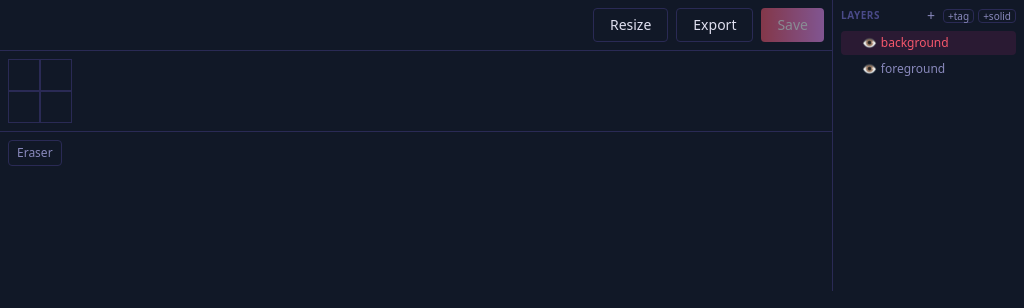
Test case: TileMapEditor › hovering a cell shows its row/column and world x/y in the toolbar
Expected: the text "background" is shown, [881, 34, 949, 51]
Hover over the cell named "Row 0, Column 1" at (56, 75), box [40, 59, 72, 91]
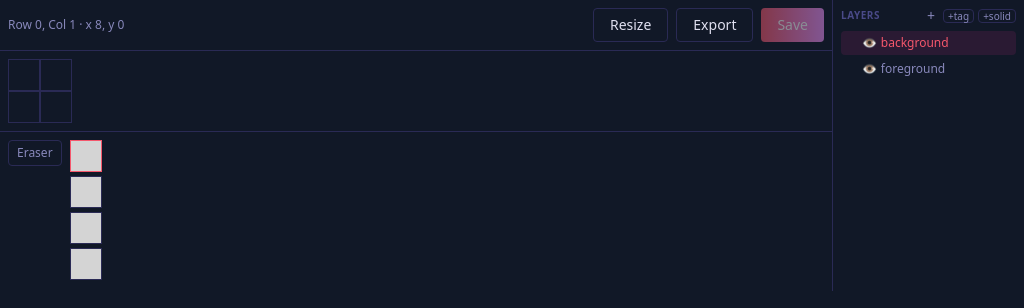
Now the text "Row 0, Col 1 · x 8, y 0" is shown, box [8, 17, 124, 33]
